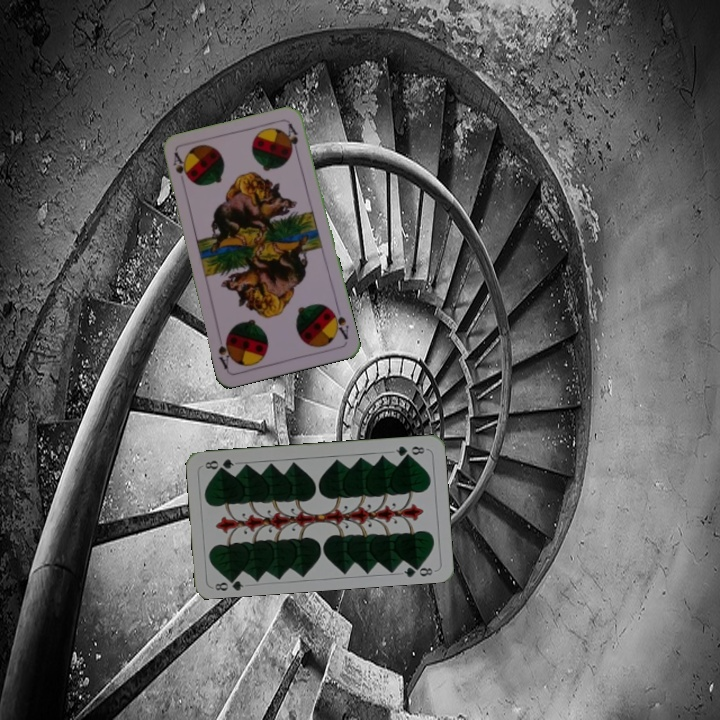G8: (211, 572, 246, 593), (392, 442, 429, 459)
SA: (327, 303, 351, 342), (169, 149, 190, 181)
